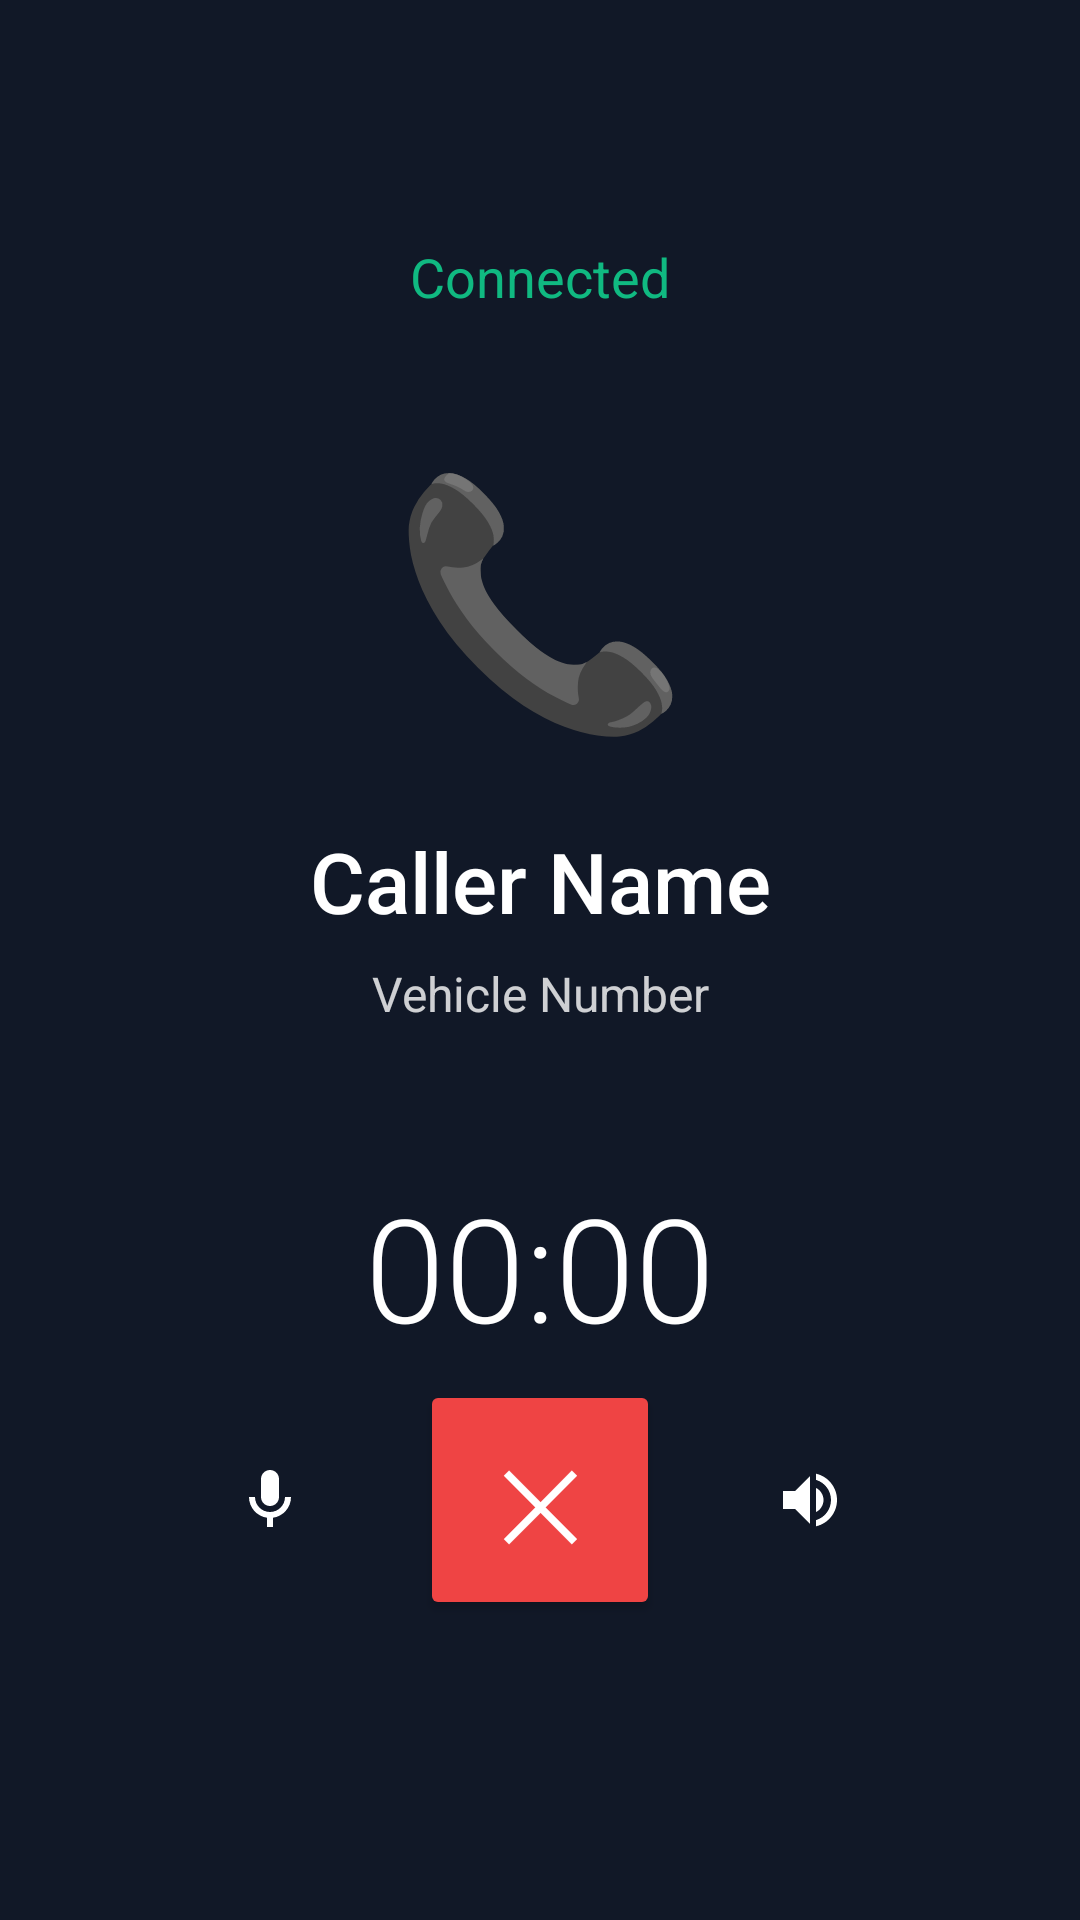

Icons on this 1080*1920 Android screen, each with its box as (x1, y1, x2, y2):
Mute: (249, 1470, 291, 1527)
Speaker: (783, 1473, 837, 1527)
